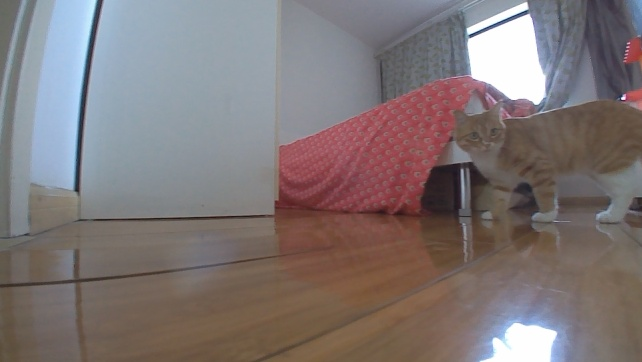bed1: (276, 72, 538, 217)
cat: (446, 95, 641, 226)
